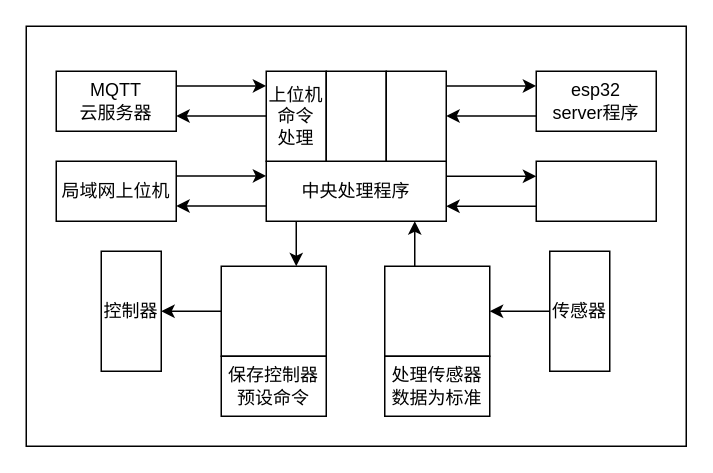
Image size: 713x473. Some labels were removed from this diagram. The centre of each missing label's shape, as x and y in pixels:
"esp32 client" belongs at point 595,190.
"传感器数据处理程序" belongs at point 436,310.
"控制器命令 程序" belongs at point 273,310.
"本地 自动 处理" belongs at point 355,115.
"标准 格式 数据 收发" belongs at point 415,115.
